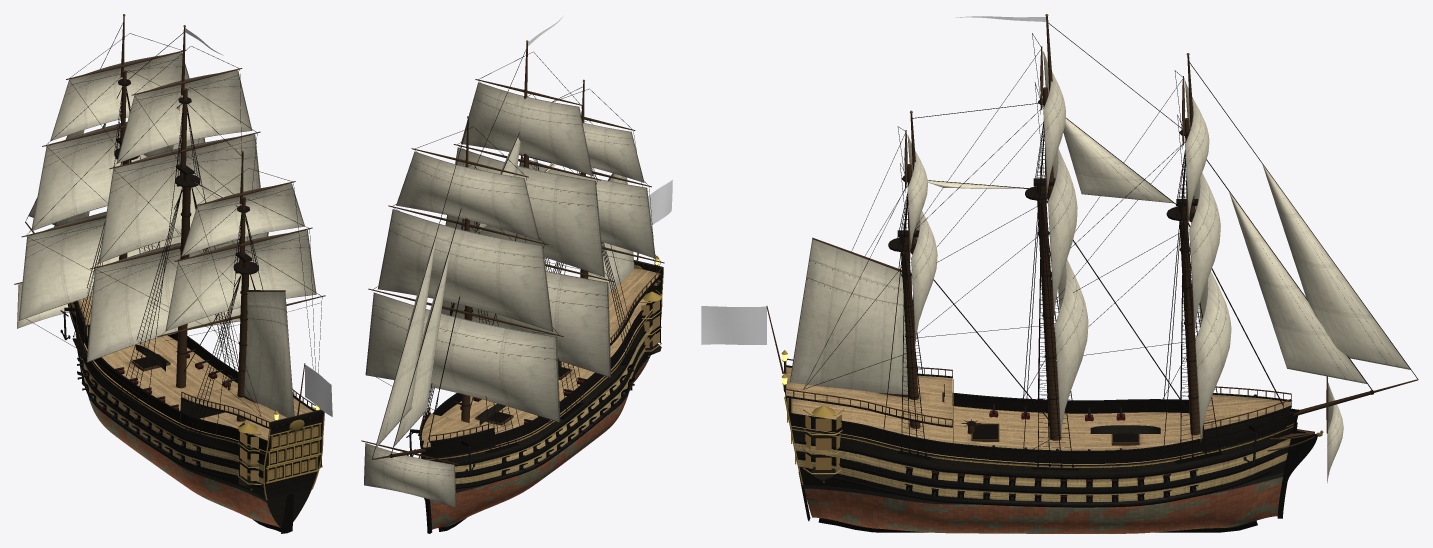
File: frigate.gltf
3 renders of one model, left to right at view 1: azimuth 30°, elevation 25°; view 2: azimuth 150°, elevation 25°; view 3: azimuth 270°, elevation 25°, orthographic. The views are drawn at different scales.
Visible parts, largest first — view 1: Hull, Sail_1_1_E, Sail_1_0, Sail_2_1, Sail_1_2, Sail_0_0, Sail_0_1_E, Sail_0_2, Sail_spanker, Sail_2_2, Flag, Sail_sprit; view 2: Hull, Sail_0_0, Sail_0_1_E, Sail_1_1_E, Sail_1_2, Sail_0_2, Sail_1_0, Sail_2_1, Sail_sprit, Sail_jib_1, Sail_jib_0, Sail_2_2 (+3 smaller); view 3: Hull, Sail_spanker, Sail_jib_1, Sail_jib_0, Sail_stay_1, Sail_0_0, Sail_1_0, Sail_0_1_E, Sail_1_1_E, Flag, Sail_2_1, Sail_0_2 (+3 smaller).
Part boxes in pixels (x1,y1,x2,y2): Hull: (14, 14, 325, 533); Sail_1_1_E: (98, 134, 260, 263); Sail_1_0: (86, 232, 268, 362); Sail_2_1: (165, 230, 316, 331); Sail_1_2: (116, 70, 252, 163); Sail_0_0: (18, 211, 181, 320); Sail_0_1_E: (31, 122, 205, 231); Sail_0_2: (50, 52, 189, 141); Sail_spanker: (244, 291, 294, 417); Sail_2_2: (181, 183, 304, 256); Flag: (305, 364, 332, 416); Sail_sprit: (17, 283, 69, 328); Hull: (361, 40, 664, 533); Sail_0_0: (365, 292, 560, 422); Sail_0_1_E: (378, 209, 552, 331); Sail_1_1_E: (445, 147, 604, 277); Sail_1_2: (461, 82, 592, 175); Sail_0_2: (396, 151, 539, 240); Sail_1_0: (441, 271, 610, 377); Sail_2_1: (519, 157, 655, 258); Sail_sprit: (364, 443, 456, 507); Sail_jib_1: (375, 234, 436, 448); Sail_jib_0: (394, 246, 450, 446); Sail_2_2: (583, 123, 644, 182); Hull: (766, 14, 1418, 533); Sail_spanker: (790, 239, 911, 394); Sail_jib_1: (1262, 164, 1410, 369); Sail_jib_0: (1229, 192, 1366, 383); Sail_stay_1: (1063, 118, 1173, 203); Sail_0_0: (1195, 271, 1231, 442); Sail_1_0: (1054, 259, 1088, 436); Sail_0_1_E: (1189, 173, 1220, 333); Sail_1_1_E: (1048, 148, 1077, 315); Flag: (701, 306, 766, 344); Sail_2_1: (911, 211, 937, 343); Sail_0_2: (1185, 81, 1209, 220).
Size of the model in its own units: 27.65 by 58.72 by 73.61.
18 materials, 4 textured.
